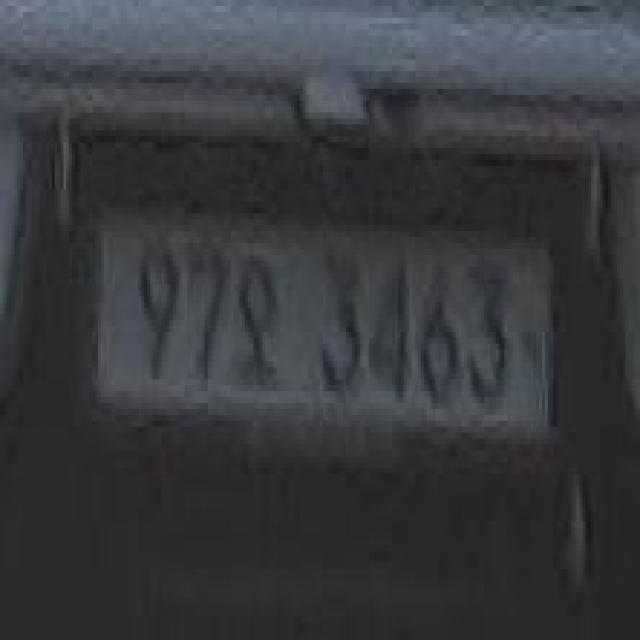3: (464, 252, 514, 412), (316, 240, 366, 398)
4: (369, 243, 416, 403)
6: (417, 246, 463, 409)
7: (183, 230, 228, 395)
9: (137, 227, 177, 388)
license_plate: (86, 191, 559, 449)
o: (233, 242, 283, 402)
